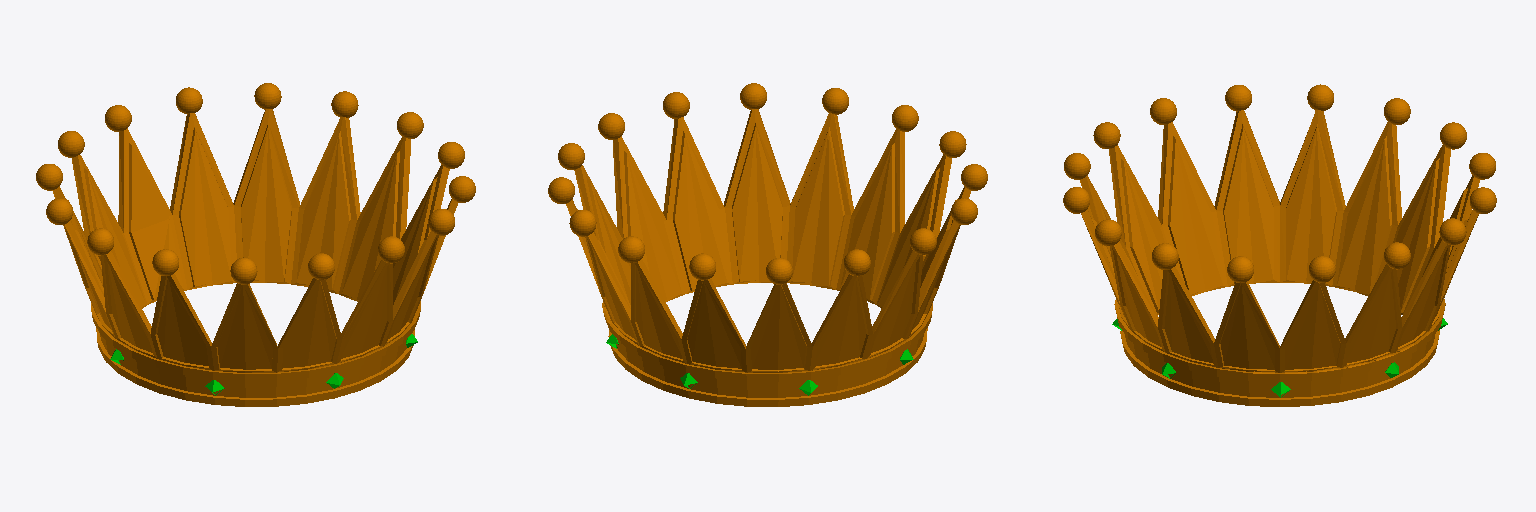
Rendered from ring.obj.
3 views of the same model, side by side, from view 1: azimuth 30°, elevation 25°; view 2: azimuth 150°, elevation 25°; view 3: azimuth 270°, elevation 25° (orthographic).
Parts seen in each view (by area): view 1: 円柱_円柱.001, 球.015, 球.014, 球.011, 球.001, 球.012, 球, 球.004, 球.009, 球.003, 球.007, 球.008 (+5 smaller); view 2: 円柱_円柱.001, 球.013, 球.003, 球.002, 球.007, 球.001, 球.004, 球.005, 球.010, 球.015, 球.014, 球 (+5 smaller); view 3: 円柱_円柱.001, 球.004, 球.013, 球.002, 球.005, 球.006, 球.010, 球.015, 球.007, 球.014, 球.008, 球.001 (+5 smaller).
Boxes of the visible parts, box(x1,y1,x2,y2) form: 円柱_円柱.001: box(52, 109, 457, 406); 球.015: box(449, 176, 475, 202); 球.014: box(438, 142, 464, 168); 球.011: box(378, 236, 404, 263); 球.001: box(36, 164, 62, 190); 球.012: box(428, 209, 454, 235); 球: box(46, 198, 72, 224); 球.004: box(105, 105, 131, 131); 球.009: box(308, 253, 334, 279); 球.003: box(87, 228, 113, 255); 球.007: box(152, 249, 178, 275); 球.008: box(230, 258, 257, 284); 円柱_円柱.001: box(566, 109, 970, 406); 球.013: box(558, 143, 584, 169); 球.003: box(951, 198, 977, 224); 球.002: box(766, 258, 792, 284); 球.007: box(961, 164, 987, 190); 球.001: box(844, 249, 870, 276); 球.004: box(689, 253, 715, 280); 球.005: box(618, 236, 644, 262); 球.010: box(548, 177, 574, 203); 球.015: box(663, 92, 689, 118); 球.014: box(598, 113, 624, 139); 球: box(910, 228, 936, 254); 円柱_円柱.001: box(1080, 110, 1479, 406); 球.004: box(1469, 153, 1495, 179); 球.013: box(1309, 256, 1335, 282); 球.002: box(1440, 122, 1466, 149); 球.005: box(1470, 187, 1496, 213); 球.006: box(1439, 218, 1466, 245); 球.010: box(1384, 242, 1410, 269); 球.015: box(1152, 243, 1178, 269); 球.007: box(1150, 98, 1176, 124); 球.014: box(1227, 256, 1253, 282); 球.008: box(1093, 122, 1120, 148); 球.001: box(1384, 98, 1410, 124).
Size of the model in its own units: 2.03 by 0.8746 by 2.03.